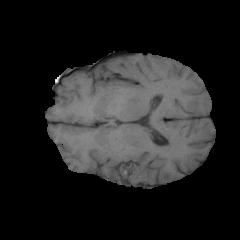glioma: (102, 155, 135, 183)
